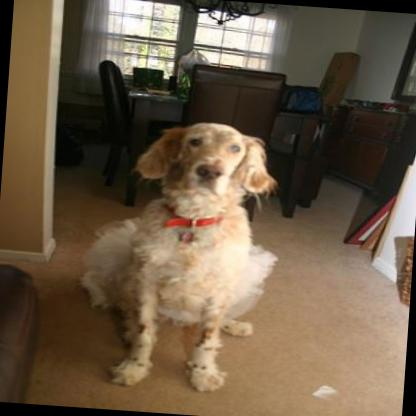English_setter: (70, 112, 287, 395)
